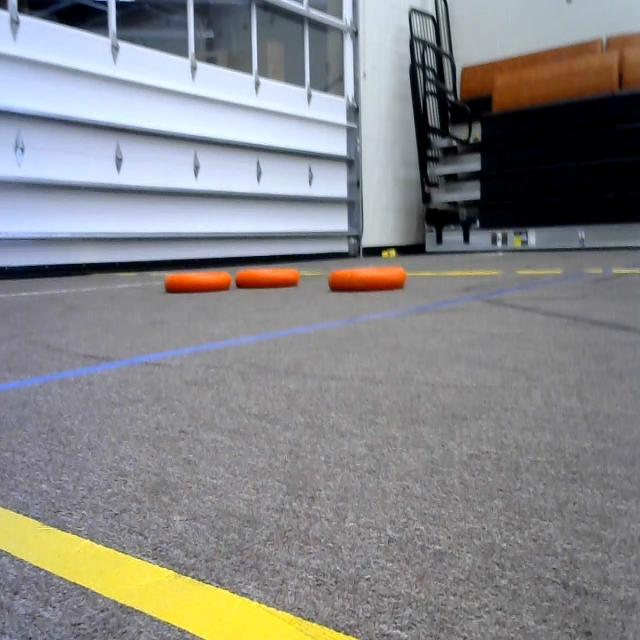note: (327, 262, 409, 297), (165, 262, 232, 300), (237, 263, 308, 292)
